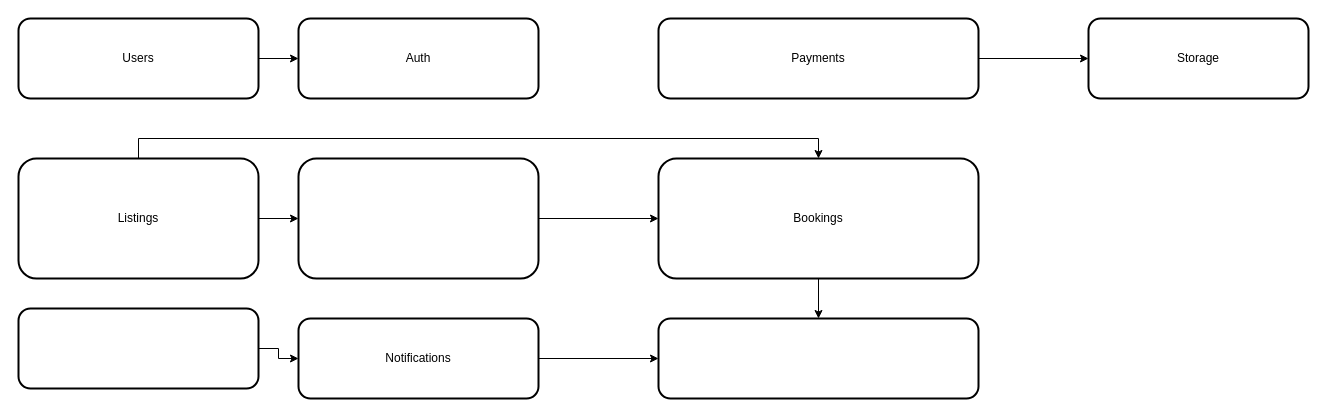
Some shapes in this 1326 by 416 pixel diagram are drawn without their labels. Here are the shapes that lost their labels. From the top down, the box of each, then its label:
(297, 157, 539, 279): Search
(17, 307, 259, 389): Reviews
(657, 317, 979, 399): Admin
